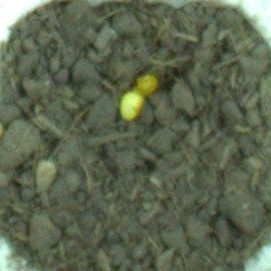pepper seed: (46, 28, 191, 152), (54, 25, 213, 122)
